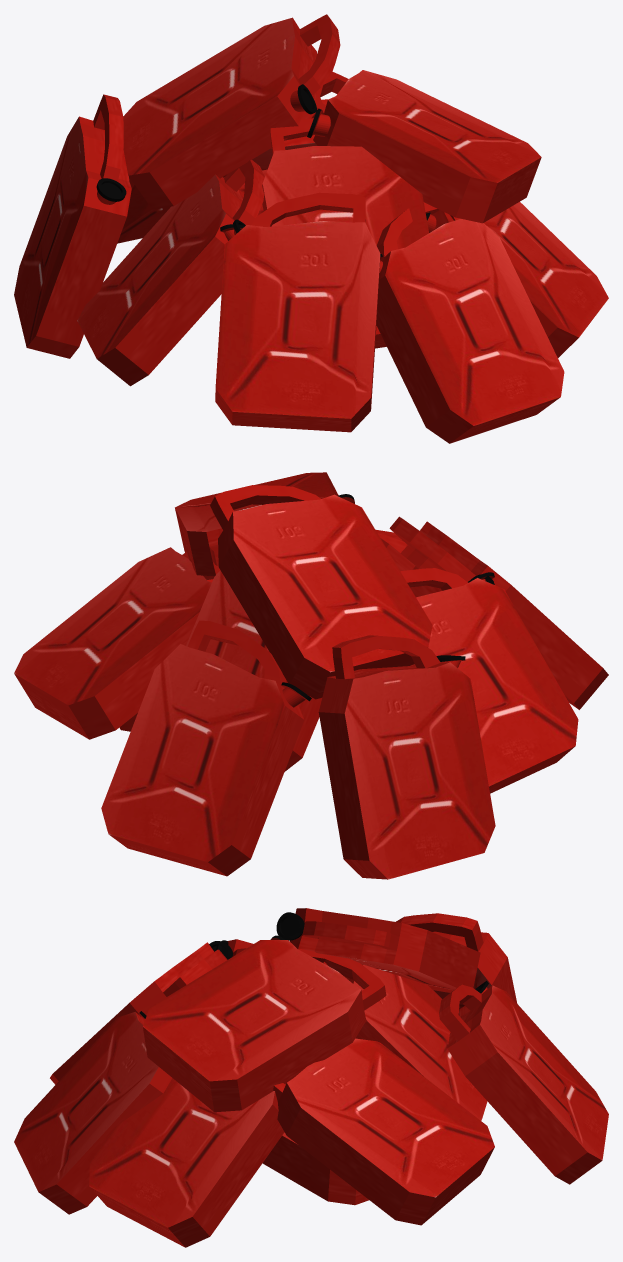
File: gascans.fbx
3 views of the same model, one above another, from view 1: azimuth 30°, elevation 25°; view 2: azimuth 150°, elevation 25°; view 3: azimuth 270°, elevation 25° (orthographic). The views are drawn at different scales.
Visible parts, largest first — view 1: gascans; view 2: gascans; view 3: gascans.
Part boxes in pixels (left/top/right/bottom): gascans: left=14, top=14, right=608, bottom=443; gascans: left=14, top=472, right=608, bottom=879; gascans: left=14, top=908, right=608, bottom=1247.
Bounding box in the file's own units: 9.1 × 5.31 × 10.63.
